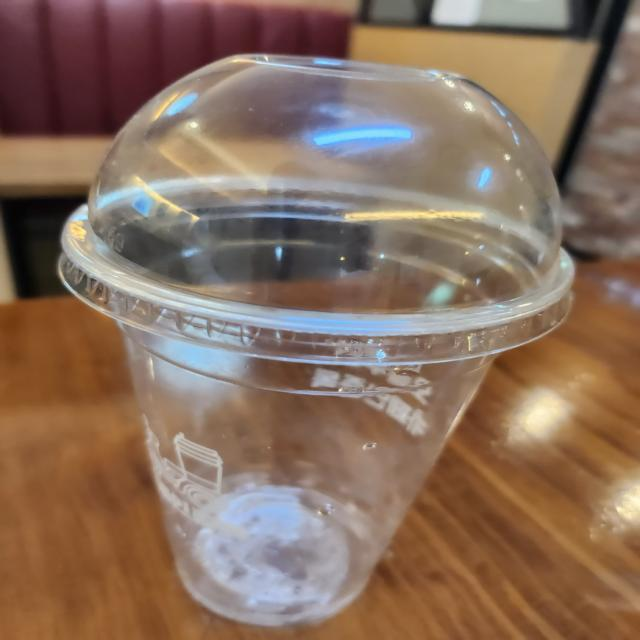plastic_cup_lid: (53, 44, 585, 374)
